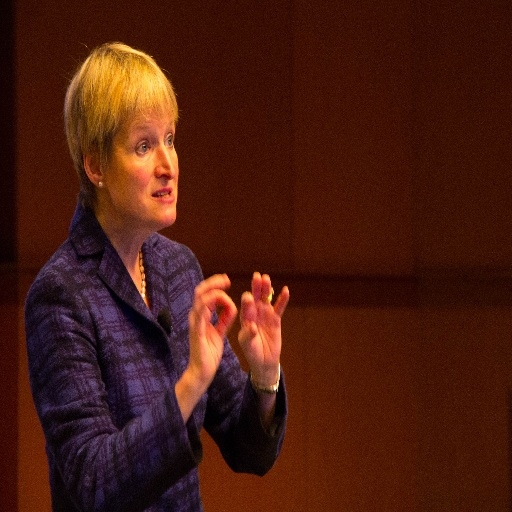hand: (233, 277, 289, 407), (187, 273, 237, 383)
